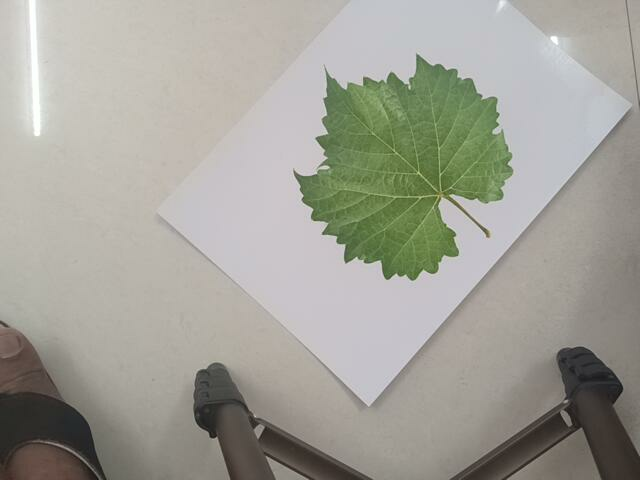Grape_Healthy: (293, 52, 520, 282)
